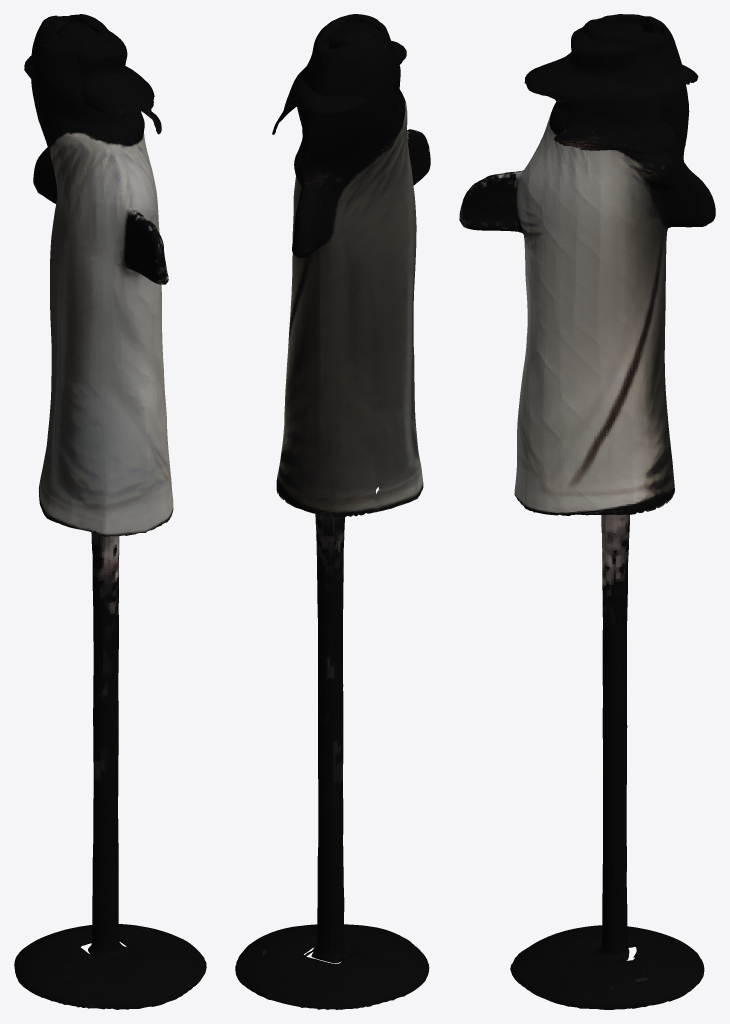
Rendered from prediction.glb.
3 renders of one model, left to right at view 1: azimuth 30°, elevation 25°; view 2: azimuth 150°, elevation 25°; view 3: azimuth 270°, elevation 25°, orthographic.
Visible parts, largest first — view 1: 0_geometry_0, 1_geometry_0, 2_geometry_0; view 2: 0_geometry_0, 1_geometry_0, 2_geometry_0; view 3: 0_geometry_0, 1_geometry_0, 2_geometry_0.
Part boxes in pixels (box(x1,y1,x2,y2)): 0_geometry_0: box(30, 14, 173, 536); 1_geometry_0: box(14, 531, 206, 1009); 2_geometry_0: box(24, 21, 161, 134); 0_geometry_0: box(276, 14, 430, 517); 1_geometry_0: box(235, 514, 429, 1009); 2_geometry_0: box(272, 21, 406, 134); 0_geometry_0: box(459, 14, 715, 515); 1_geometry_0: box(510, 514, 704, 1009); 2_geometry_0: box(524, 21, 698, 153).
Size of the model in its own units: 0.1845 by 1 by 0.2486.
3 materials, 3 textured.
